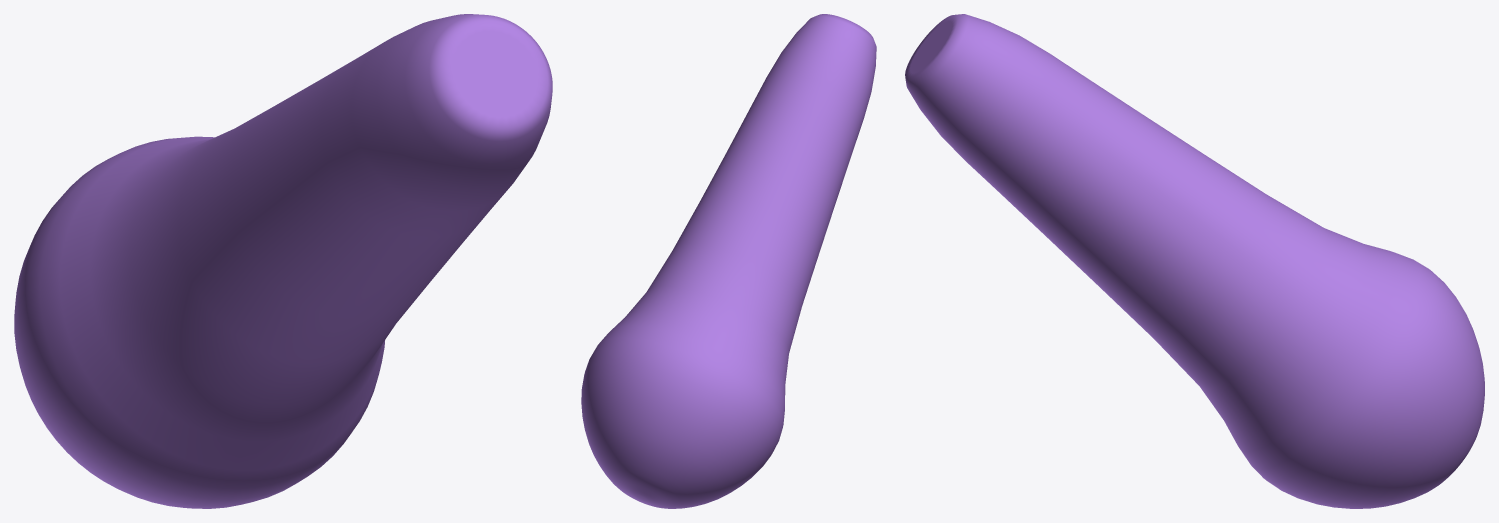
Rendered from Caldero_GameJam.fbx.
The picture shows the model from 3 angles, left to right: view 1: azimuth 30°, elevation 25°; view 2: azimuth 150°, elevation 25°; view 3: azimuth 270°, elevation 25°; orthographic projection. The views are drawn at different scales.
Parts seen in each view (by area): view 1: Aplastar Mortero; view 2: Aplastar Mortero; view 3: Aplastar Mortero.
Boxes of the visible parts, box(x1,y1,x2,y2) form: Aplastar Mortero: box(14, 14, 552, 508); Aplastar Mortero: box(581, 14, 876, 508); Aplastar Mortero: box(905, 14, 1484, 508).
Size of the model in its own units: 2.74 by 5.41 by 5.95.
